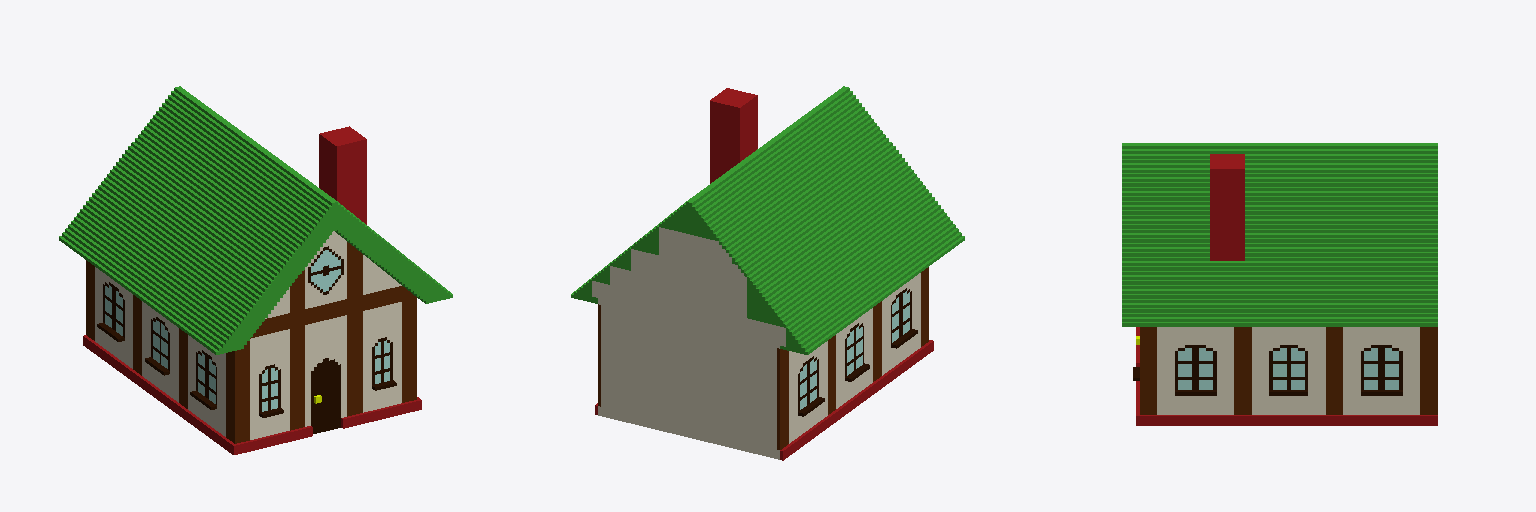
3 views of the same model, side by side, from view 1: azimuth 30°, elevation 25°; view 2: azimuth 150°, elevation 25°; view 3: azimuth 270°, elevation 25° (orthographic).
Visible parts, largest first — view 1: object 1; view 2: object 1; view 3: object 1.
Part boxes in pixels (x1,y1,x2,y2): object 1: (59,86,452,454); object 1: (571,86,964,460); object 1: (1122,143,1437,425).
Bounding box in the file's own units: 7.8 × 7.8 × 9.
Materials: 1 (1 with a texture image).